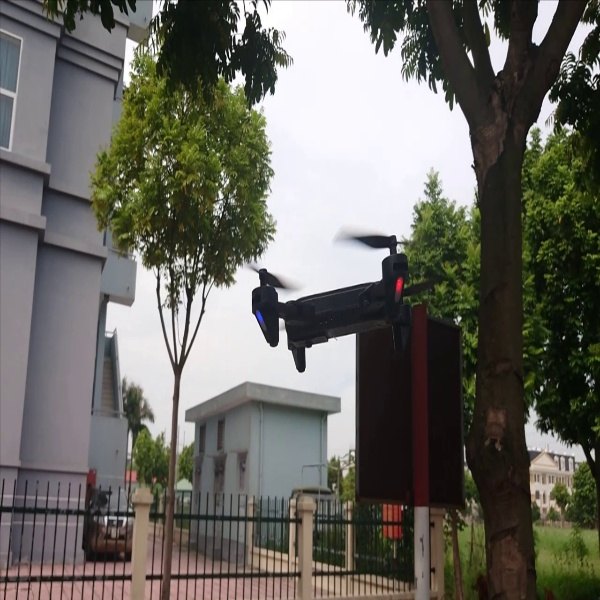drone: (231, 225, 447, 369)
